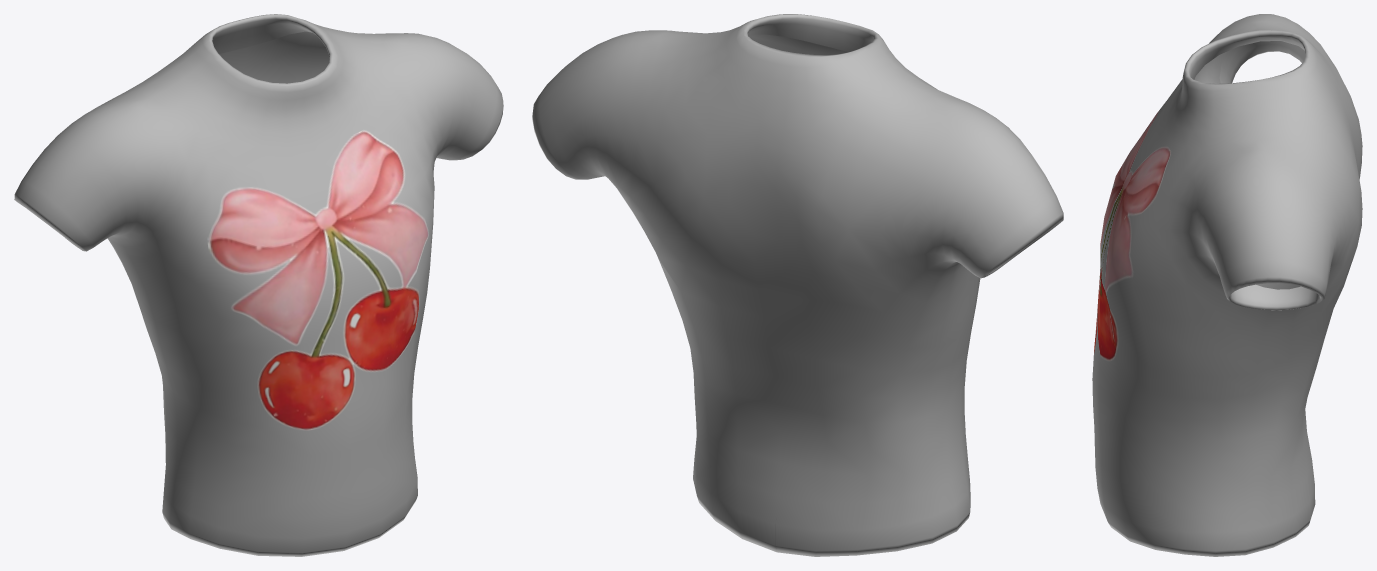
Rendered from Basic Tee1 Model.fbx.
3 renders of one model, left to right at view 1: azimuth 30°, elevation 25°; view 2: azimuth 150°, elevation 25°; view 3: azimuth 270°, elevation 25°, orthographic. The views are drawn at different scales.
Visible parts, largest first — view 1: Basic Tee; view 2: Basic Tee; view 3: Basic Tee.
Part boxes in pixels (x1,y1,x2,y2): Basic Tee: [14, 14, 503, 556]; Basic Tee: [532, 14, 1063, 556]; Basic Tee: [1092, 14, 1362, 556].
Size of the model in its own units: 939 by 871 by 463.
Materials: 1 (1 with a texture image).
